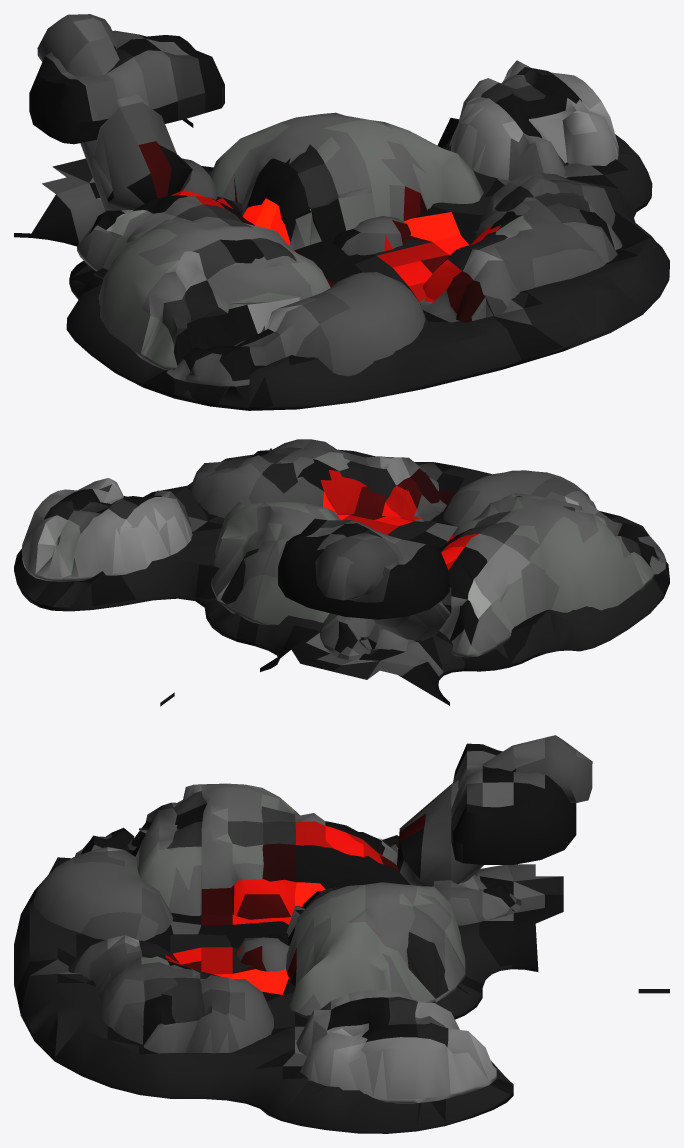
The model's file is stone_plant_damaged.glb.
3 renders of one model, top to bottom at view 1: azimuth 30°, elevation 25°; view 2: azimuth 150°, elevation 25°; view 3: azimuth 270°, elevation 25°, orthographic. The views are drawn at different scales.
Visible parts, largest first — view 1: base, part_f, part_l, part_b, part_d, stump, stalk, part_s; view 2: base, part_l, part_f, part_d, stump, part_b, stalk, part_s; view 3: base, part_f, part_l, part_b, part_d, stump, stalk, part_s.
Boxes of the visible parts, bbox=[...] form: base: bbox=[14, 118, 669, 410]; part_f: bbox=[166, 173, 622, 386]; part_l: bbox=[77, 190, 330, 370]; part_b: bbox=[210, 112, 483, 250]; part_d: bbox=[449, 60, 618, 180]; stump: bbox=[29, 30, 224, 144]; stalk: bbox=[37, 14, 192, 211]; part_s: bbox=[182, 158, 217, 199]; base: bbox=[14, 449, 669, 706]; part_l: bbox=[439, 493, 654, 657]; part_f: bbox=[190, 439, 666, 574]; part_d: bbox=[22, 478, 192, 581]; stump: bbox=[278, 518, 449, 619]; part_b: bbox=[211, 501, 340, 625]; stalk: bbox=[315, 532, 451, 641]; part_s: bbox=[319, 613, 414, 660]; base: bbox=[14, 857, 669, 1133]; part_f: bbox=[33, 827, 289, 1053]; part_l: bbox=[130, 783, 410, 919]; part_b: bbox=[286, 882, 465, 1015]; part_d: bbox=[296, 990, 496, 1103]; stump: bbox=[451, 743, 576, 864]; stalk: bbox=[397, 735, 592, 886]; part_s: bbox=[431, 874, 521, 925].
Size of the model in its own units: 21.66 by 6.32 by 21.
